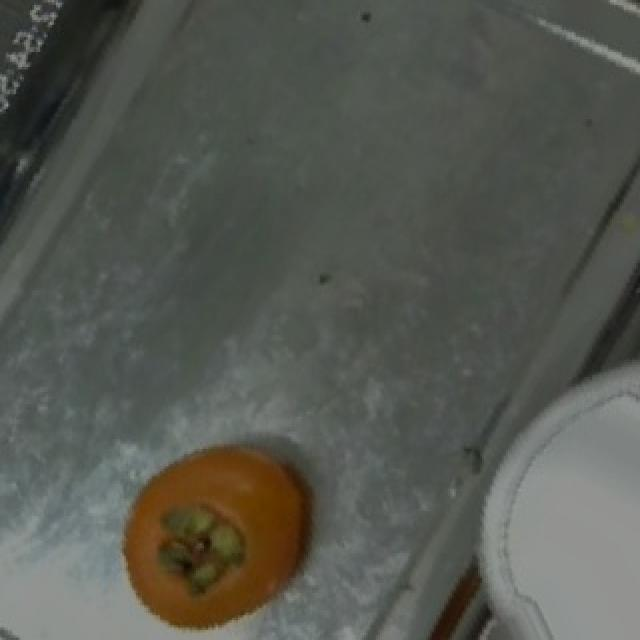Fruit: (98, 422, 332, 638)
